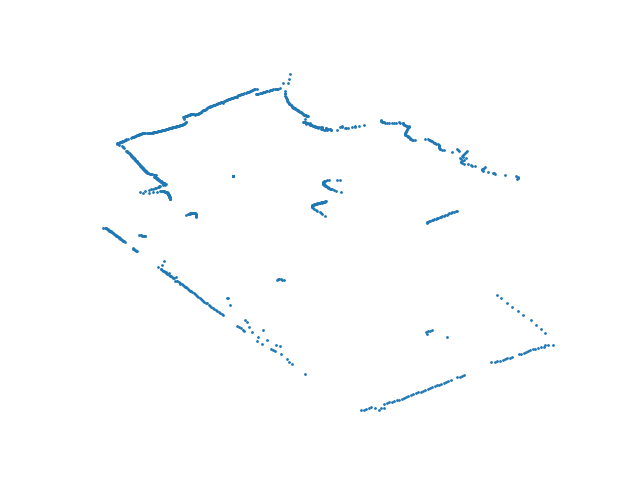person: (310, 177, 345, 220)
